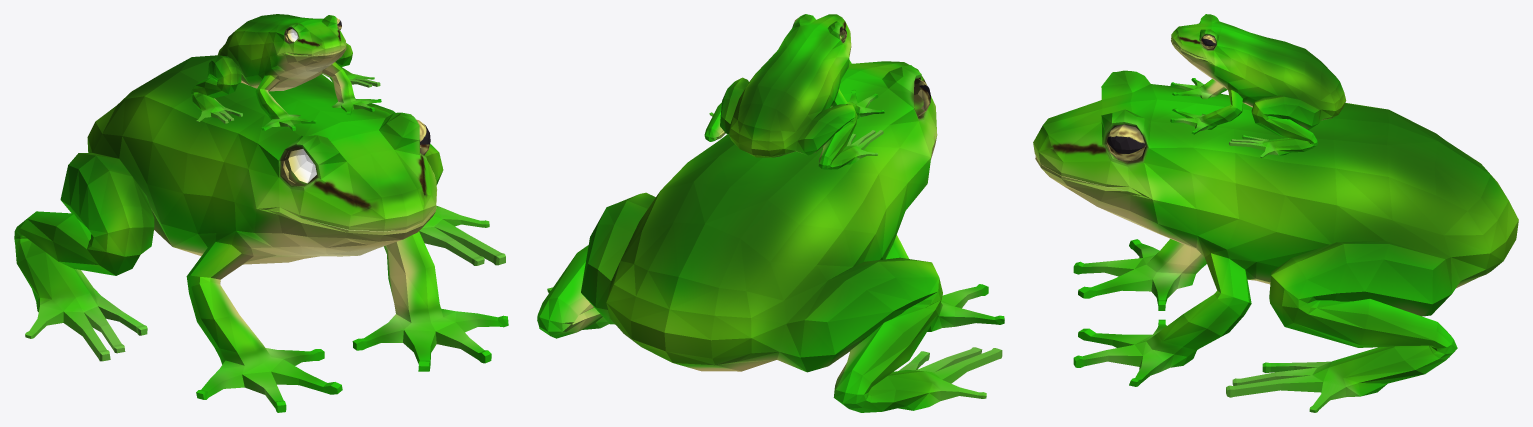
Rendered from Frogonfrog.glb.
3 renders of one model, left to right at view 1: azimuth 30°, elevation 25°; view 2: azimuth 150°, elevation 25°; view 3: azimuth 270°, elevation 25°, orthographic. The views are drawn at different scales.
Parts seen in each view (by area): view 1: Node, Node.001; view 2: Node, Node.001; view 3: Node, Node.001.
Part boxes in pixels (left/top/right/bottom): Node: left=14, top=55, right=508, bottom=412; Node.001: left=191, top=14, right=381, bottom=130; Node: left=537, top=60, right=1004, bottom=412; Node.001: left=704, top=14, right=884, bottom=169; Node: left=1033, top=70, right=1518, bottom=412; Node.001: left=1170, top=14, right=1346, bottom=157.
Size of the model in its own units: 0.38 by 0.2478 by 0.3663.
Materials: 4 (4 with a texture image).
